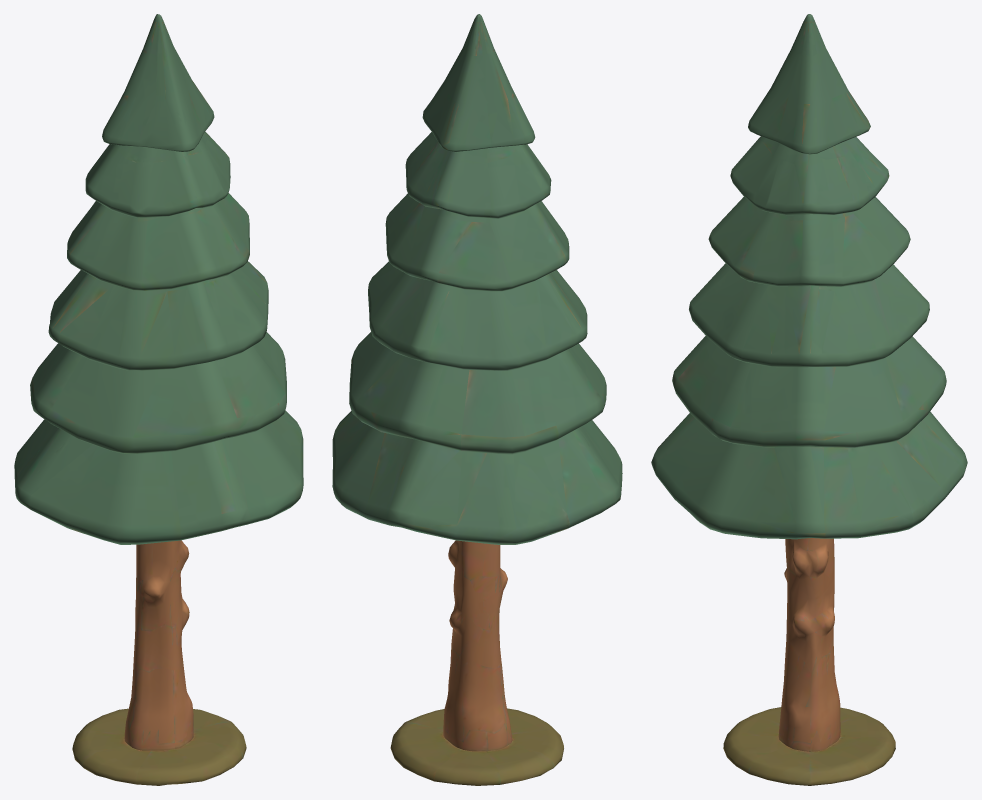
Rendered from pine.glb.
3 renders of one model, left to right at view 1: azimuth 30°, elevation 25°; view 2: azimuth 150°, elevation 25°; view 3: azimuth 270°, elevation 25°, orthographic.
Size of the model in its own units: 0.3967 by 1 by 0.3911.
Materials: 1 (1 with a texture image).
